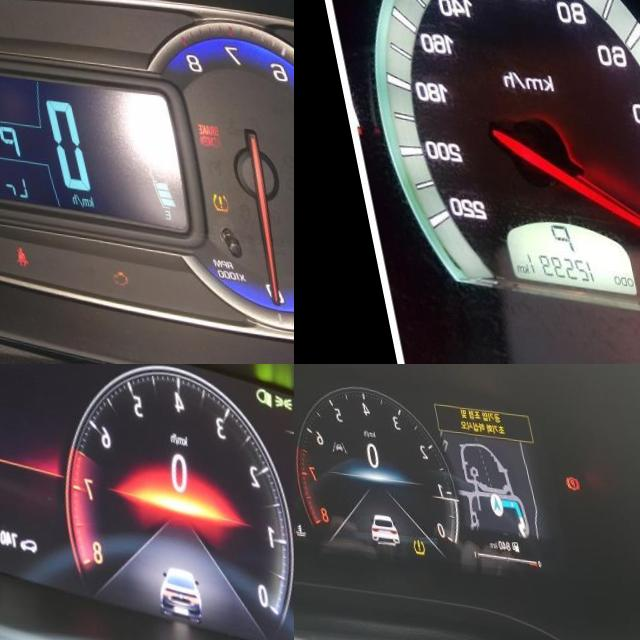Low beam: (242, 376, 266, 401)
SideLamp: (262, 384, 285, 403)
